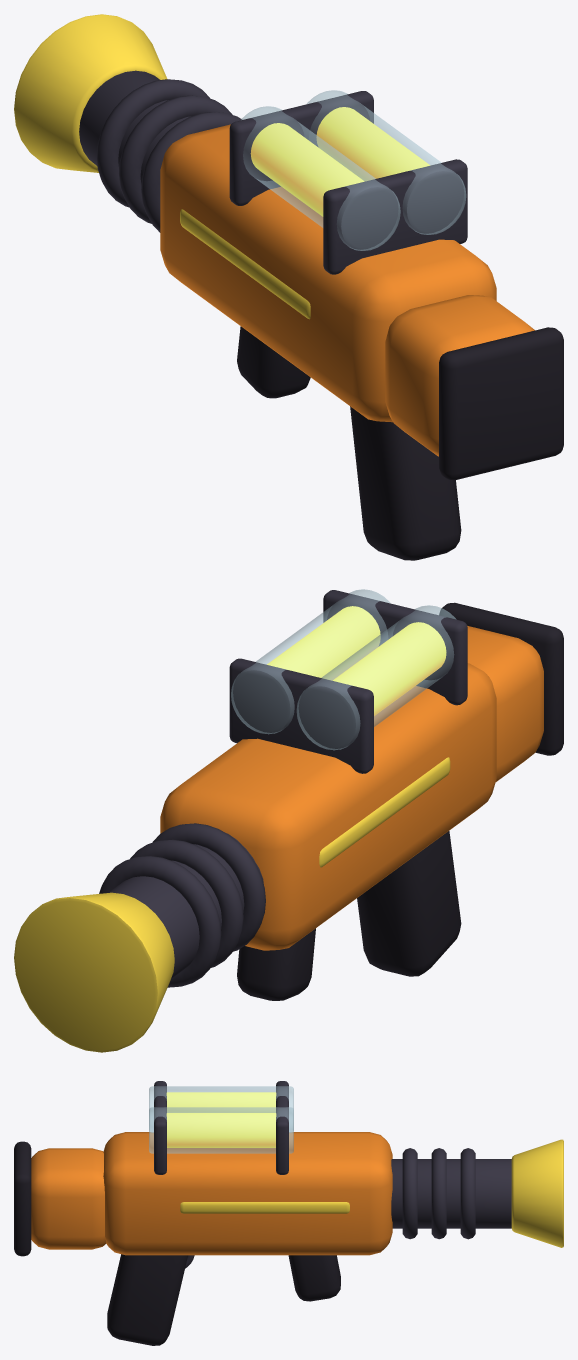
Rendered from Thunderclapper.fbx.
The picture shows the model from 3 angles, top to bottom: view 1: azimuth 30°, elevation 25°; view 2: azimuth 150°, elevation 25°; view 3: azimuth 270°, elevation 25°; orthographic projection. The views are drawn at different scales.
Parts seen in each view (by area): view 1: Body, Grip, Metal, Glass, Trim, Gas; view 2: Body, Metal, Trim, Glass, Grip, Gas; view 3: Body, Metal, Grip, Glass, Trim, Gas.
Part boxes in pixels (x1,y1,x2,y2): Body: (160, 124, 534, 456); Grip: (237, 326, 563, 560); Metal: (79, 70, 467, 274); Glass: (241, 90, 466, 250); Trim: (14, 14, 310, 319); Gas: (250, 107, 429, 216); Body: (160, 625, 543, 950); Metal: (99, 590, 467, 987); Trim: (14, 757, 450, 1052); Glass: (231, 589, 456, 750); Grip: (237, 602, 563, 1000); Gas: (267, 606, 446, 715); Body: (31, 1132, 392, 1255); Metal: (154, 1081, 511, 1268); Grip: (14, 1141, 340, 1345); Glass: (149, 1086, 293, 1153); Trim: (180, 1139, 563, 1247); Gas: (166, 1092, 276, 1147).
Bounding box in the file's own units: 0.7473 × 1.84 × 3.79.
